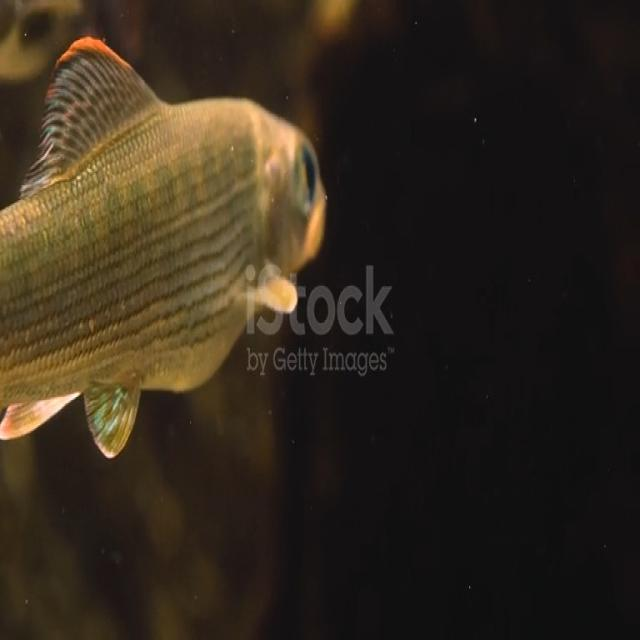fish: (0, 26, 335, 466)
